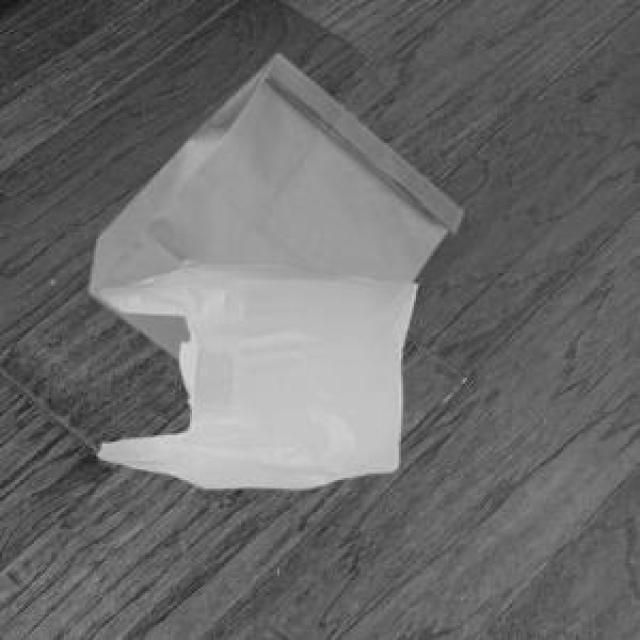paper: (85, 51, 459, 354)
